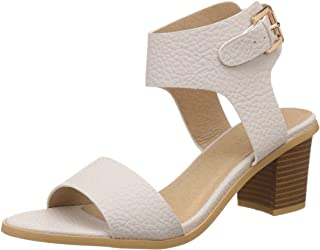shoes: (1, 1, 320, 247)
